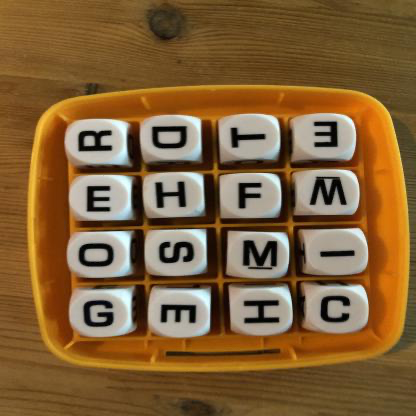c: (306, 288, 368, 334)
d: (140, 117, 202, 161)
e: (148, 290, 210, 338), (294, 114, 358, 158), (70, 176, 132, 221)
f: (220, 175, 281, 220)
g: (69, 291, 131, 338)
h: (229, 288, 292, 336), (144, 175, 207, 219)
i: (305, 231, 365, 276)
m: (226, 231, 289, 279)
o: (67, 232, 129, 278)
r: (68, 120, 128, 163)
s: (145, 229, 208, 277)
t: (220, 114, 281, 158)
w: (298, 172, 357, 217)
